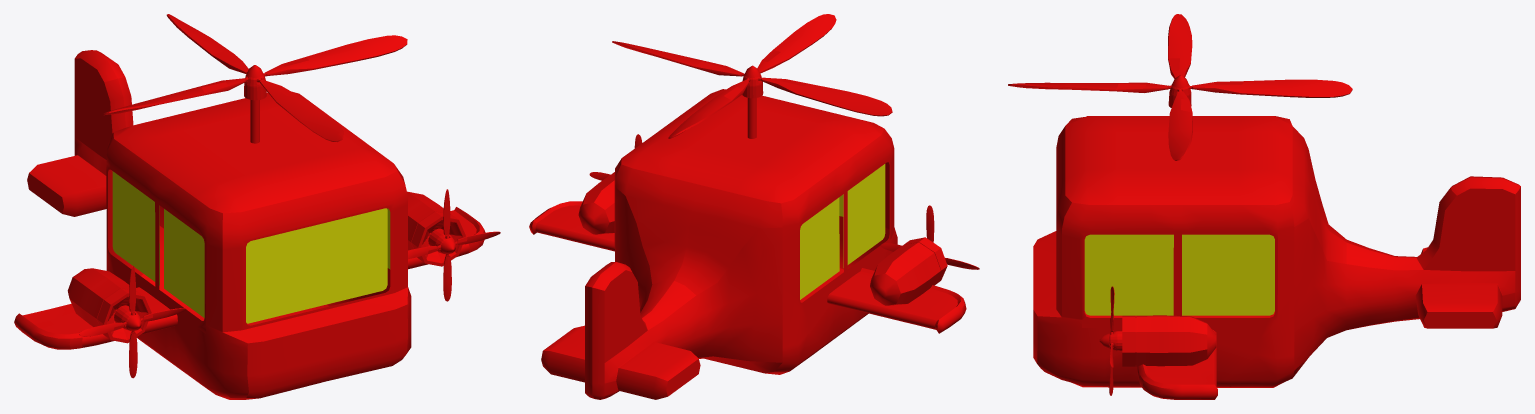
File: LB_Plan_UnityVer.fbx
3 renders of one model, left to right at view 1: azimuth 30°, elevation 25°; view 2: azimuth 150°, elevation 25°; view 3: azimuth 270°, elevation 25°, orthographic. The views are drawn at different scales.
Parts seen in each view (by area): view 1: Body_low, Glass_Out, Airscrew_wing (×3), Airscrew_main (×2), Airscrew_head1, Airscrew_body; view 2: Body_low, Airscrew_wing (×2), Glass_Out, Airscrew_main (×2), Airscrew_head1; view 3: Body_low, Glass_Out, Airscrew_wing, Airscrew_main.
Boxes of the visible parts, <box> form: Body_low: <box>14,50,485,399</box>; Glass_Out: <box>112,171,390,323</box>; Airscrew_wing (×3): <box>79,14,500,378</box>; Airscrew_main (×2): <box>67,191,465,343</box>; Airscrew_head1: <box>246,65,263,143</box>; Airscrew_body: <box>244,74,266,100</box>; Body_low: <box>529,89,966,399</box>; Airscrew_wing (×2): <box>612,14,979,269</box>; Glass_Out: <box>800,164,885,299</box>; Airscrew_main (×2): <box>578,172,947,305</box>; Airscrew_head1: <box>744,65,760,138</box>; Body_low: <box>1033,116,1520,399</box>; Glass_Out: <box>1084,234,1274,315</box>; Airscrew_wing: <box>1008,14,1352,160</box>; Airscrew_main: <box>1122,315,1216,366</box>.
Bounding box in the file's own units: 156 × 92.71 × 156.
